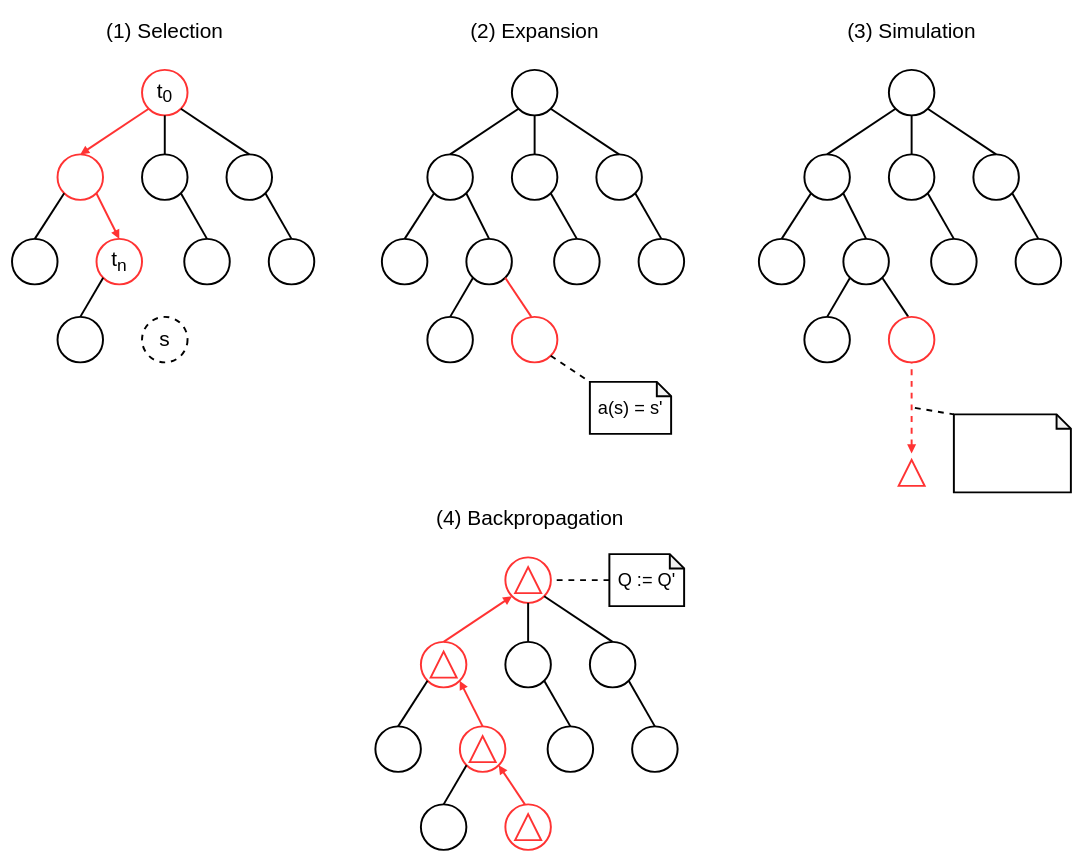
Some shapes in this 1083 by 862 pixel diagram are drawn without their labels. The shapes that lost their labels are listed below. From the top down, each one's box as (x1, y1, x2, y2) in pixels, then its label:
(511, 316, 558, 363): t l
(953, 413, 1072, 493): simulation acc. to default policy
